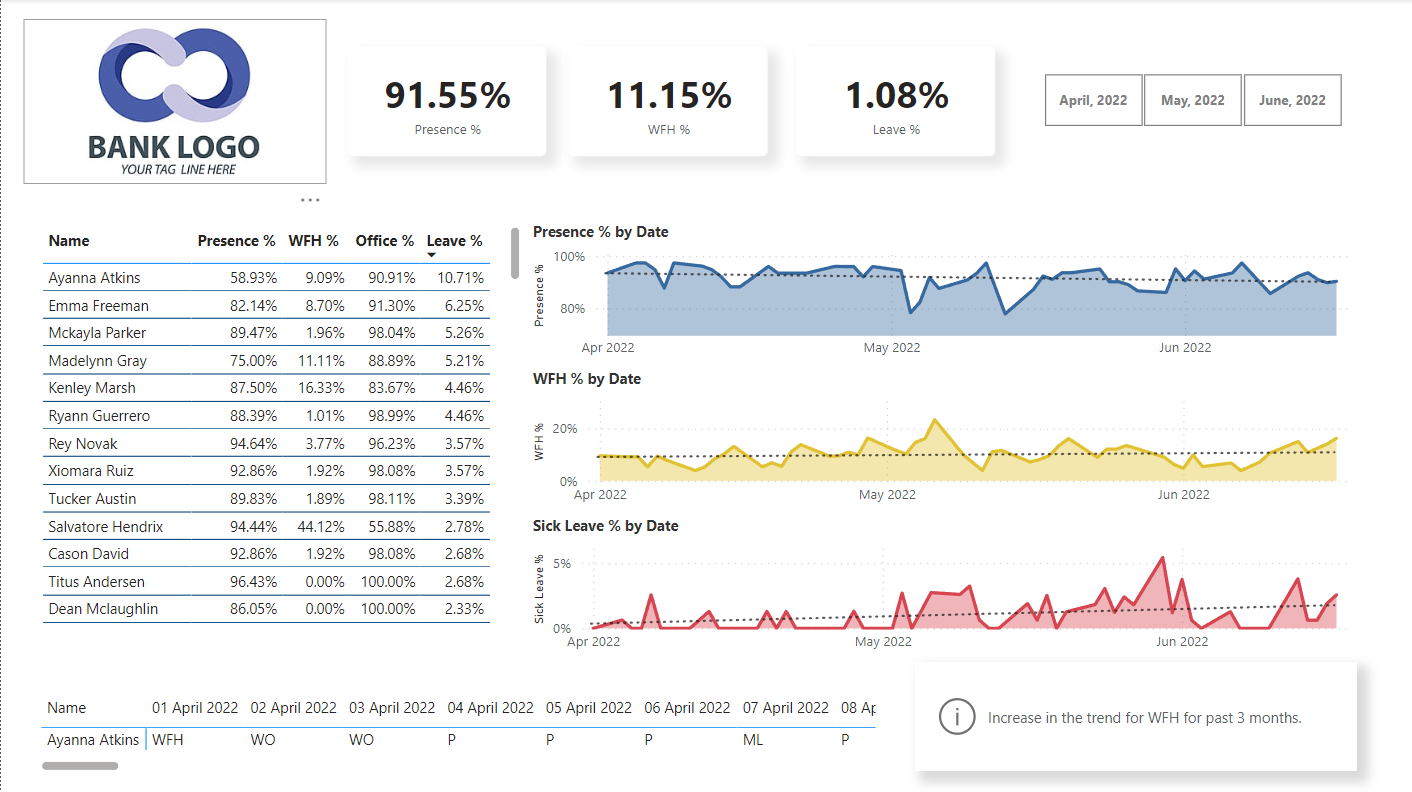

Layout of this report page (visuals, bound fields, positions):
{"tool":"powerbi","page":{"name":"Page 1","canvas":[1280,720],"ordinal":0},"visuals":[{"type":"card","fields":{"Values":["Measure Table.Presence Percentage"]},"box":[312.7,42.6,179.9,99.4],"z":2000},{"type":"card","fields":{"Values":["Measure Table.WFH %"]},"box":[512.7,42.6,179.9,99.4],"z":3000},{"type":"slicer","fields":{"Values":["Cleaned Data.Start of Month"]},"box":[918.3,61.5,318.3,60.4],"z":5000},{"type":"card","fields":{"Values":["Measure Table.Leave %"]},"box":[718.6,42.6,179.9,99.4],"z":7000},{"type":"image","box":[20.1,17.8,273.4,149.1],"z":8000},{"type":"tableEx","fields":{"Values":["Cleaned Data.Name","Measure Table.Presence %","Measure Table.WFH %","Measure Table.Office %","Measure Table.Leave %"]},"box":[32,201.2,442.6,371.6],"z":8001},{"type":"pivotTable","fields":{"Values":["Min(Cleaned Data.Value)"],"Rows":["Cleaned Data.Name"],"Columns":["Cleaned Data.Date"]},"box":[32,624.9,764.5,78.1],"z":8002},{"type":"areaChart","fields":{"Y":["Measure Table.Presence %"],"Category":["Cleaned Data.Date"]},"box":[475.7,201.2,761,132.5],"z":8003},{"type":"areaChart","fields":{"Category":["Cleaned Data.Date"],"Y":["Measure Table.WFH %"]},"box":[475.7,333.7,761,132.5],"z":8004},{"type":"areaChart","fields":{"Category":["Cleaned Data.Date"],"Y":["Measure Table.Leave %"]},"box":[475.7,466.3,761,132.5],"z":8005},{"type":"actionButton","box":[826,598.8,400,99.4],"z":8006}]}

Visuals, with their boxes in screenshot pixels (x1, y1, x2, y2), scaled from the page's 1280x720 canvas onto the 1412x792 screenshot:
card - Measure Table.Presence Percentage: pyautogui.locateOnScreen(345, 47, 543, 156)
card - Measure Table.WFH %: pyautogui.locateOnScreen(566, 47, 764, 156)
slicer - Cleaned Data.Start of Month: pyautogui.locateOnScreen(1013, 68, 1364, 134)
card - Measure Table.Leave %: pyautogui.locateOnScreen(793, 47, 991, 156)
image: pyautogui.locateOnScreen(22, 20, 324, 184)
tableEx - Cleaned Data.Name x Measure Table.Presence %: pyautogui.locateOnScreen(35, 221, 524, 630)
pivotTable - Min(Cleaned Data.Value) x Cleaned Data.Name: pyautogui.locateOnScreen(35, 687, 879, 773)
areaChart - Measure Table.Presence % x Cleaned Data.Date: pyautogui.locateOnScreen(525, 221, 1364, 367)
areaChart - Cleaned Data.Date x Measure Table.WFH %: pyautogui.locateOnScreen(525, 367, 1364, 513)
areaChart - Cleaned Data.Date x Measure Table.Leave %: pyautogui.locateOnScreen(525, 513, 1364, 659)
actionButton: pyautogui.locateOnScreen(911, 659, 1352, 768)
